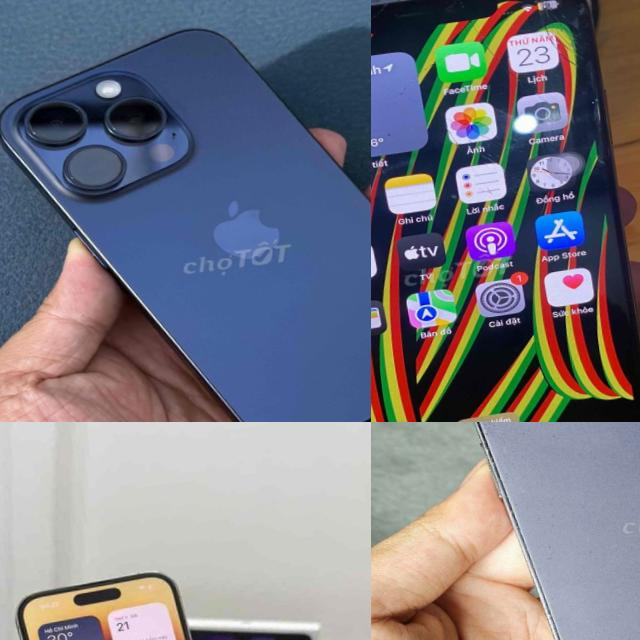gen_14: (430, 422, 640, 640), (4, 559, 256, 640)
gen_15: (0, 0, 371, 422)
gen_x_xs: (371, 0, 640, 422)
physical_damage: (371, 0, 611, 221)
scratch: (539, 571, 575, 640), (546, 427, 563, 443)
